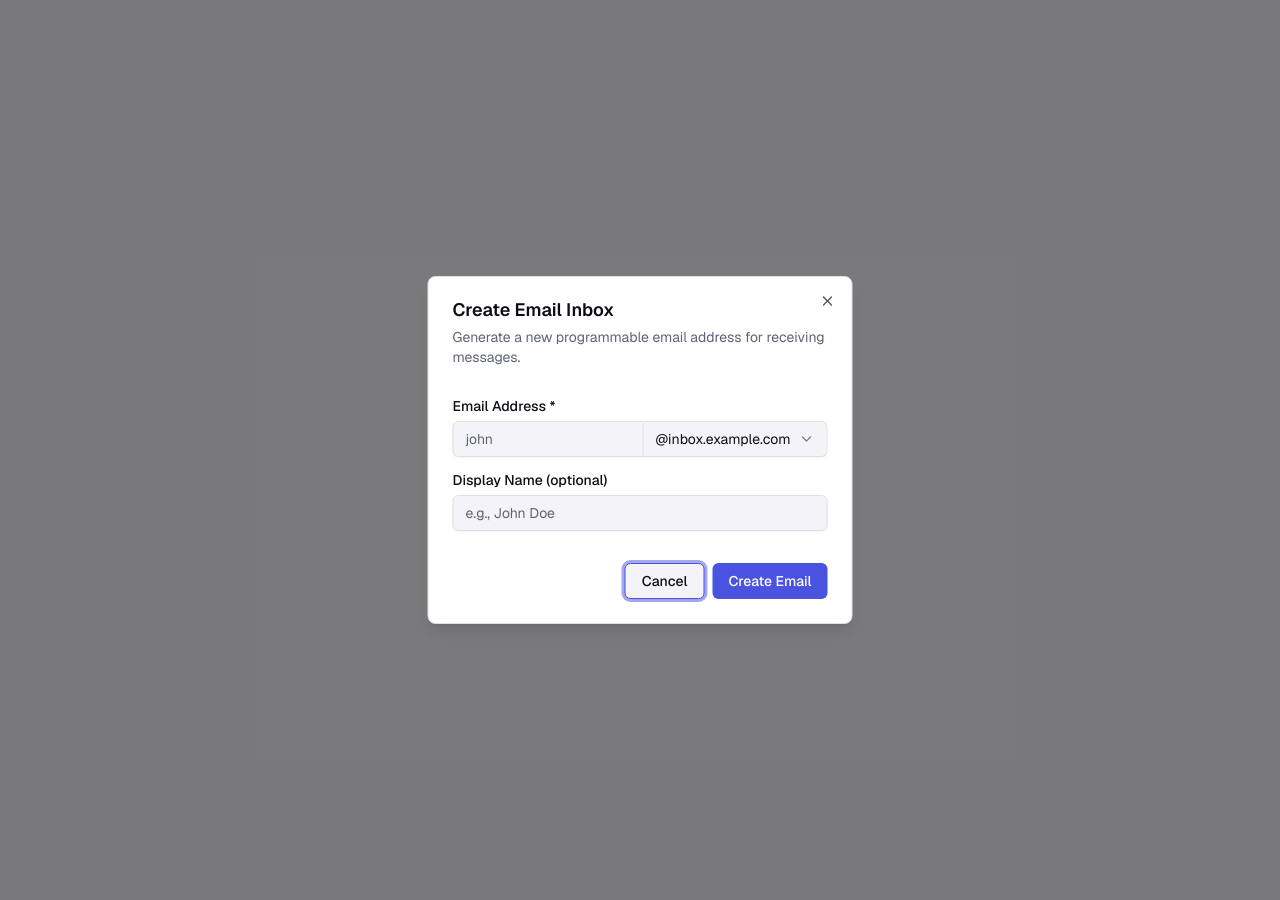
CreateEmailDialog — two or more configured domains › lists every configured domain as an option
Step 1. Click the dropdown → (735, 439), box [643,421,828,457]
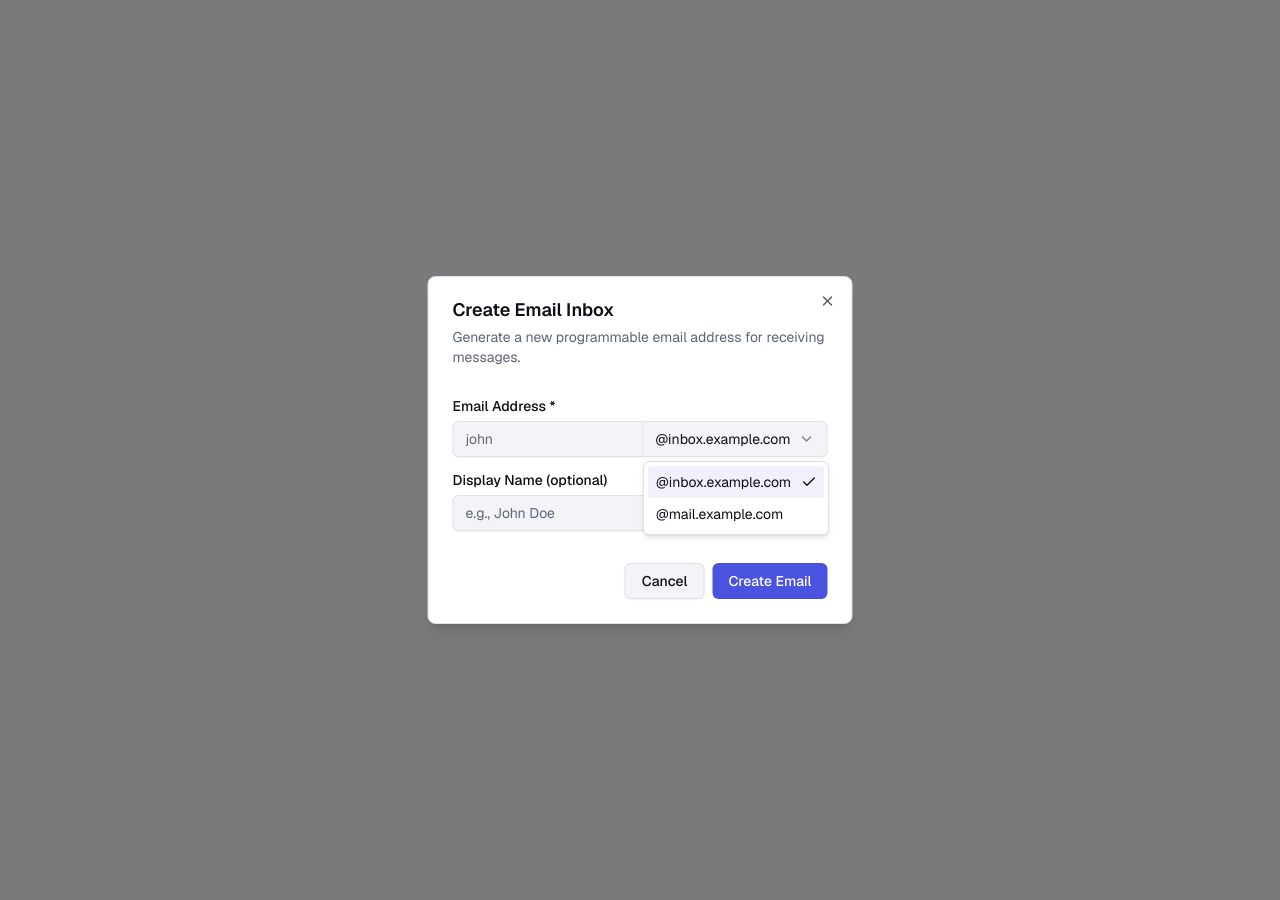
Expected: the option "@inbox.example.com" is shown, [648,466,824,498]
Expected: the option "@mail.example.com" is shown, [656,505,783,523]
